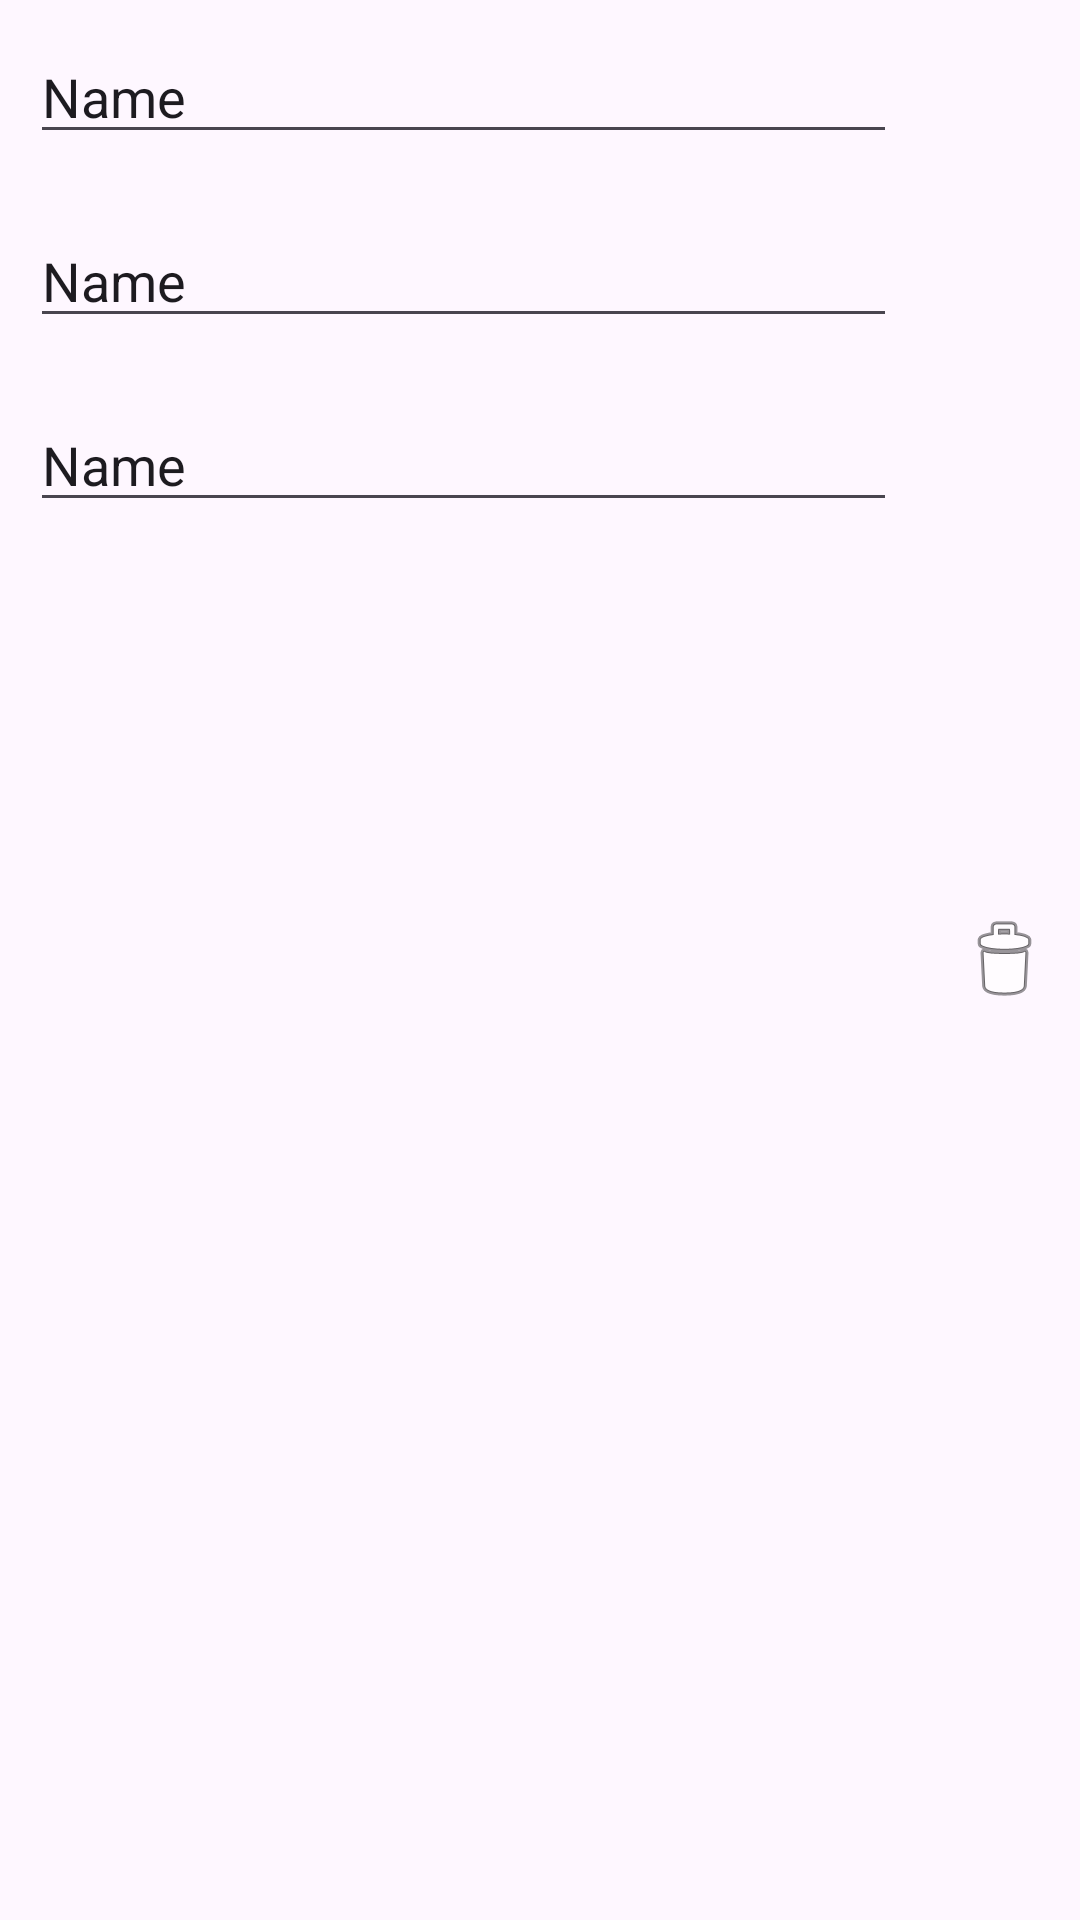

Icons on this 1080 x 1920 Android screen, each with the point to tap as point (x, y):
delete: point (1004, 958)
